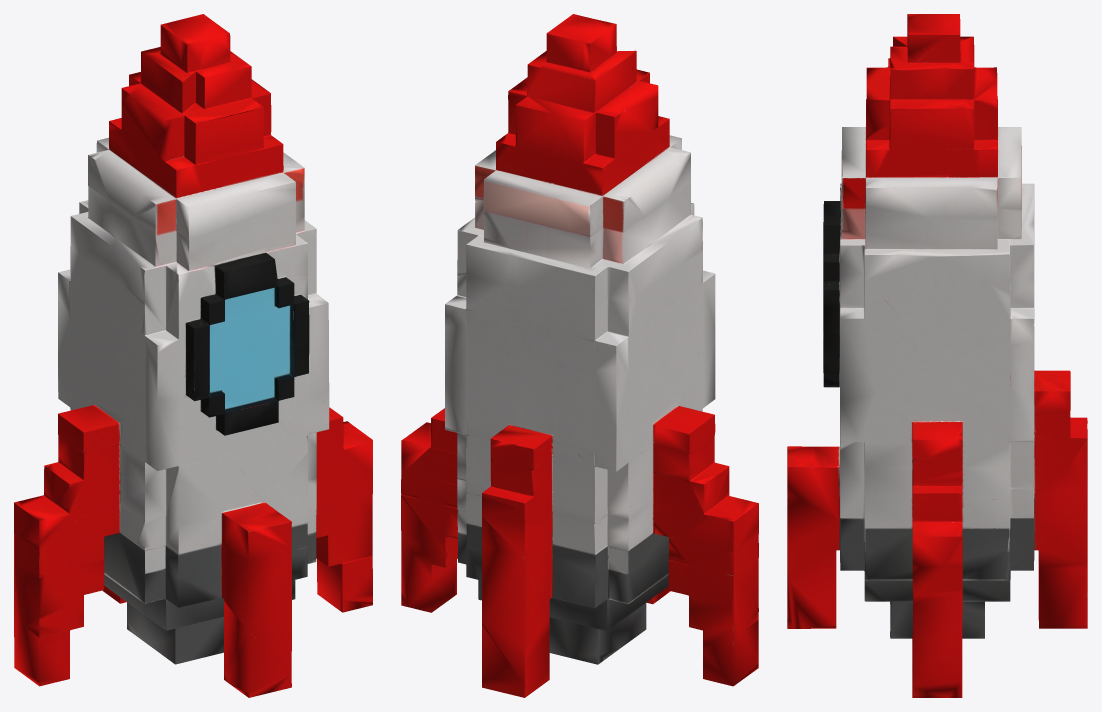
File: Rocket.fbx
The picture shows the model from 3 angles, left to right: view 1: azimuth 30°, elevation 25°; view 2: azimuth 150°, elevation 25°; view 3: azimuth 270°, elevation 25°; orthographic projection. The views are drawn at different scales.
Visible parts, largest first — view 1: Mesh_0; view 2: Mesh_0; view 3: Mesh_0.
Part boxes in pixels (x1,y1,x2,y2): Mesh_0: (14,14,372,697); Mesh_0: (401,14,758,697); Mesh_0: (787,14,1087,697).
Bounding box in the file's own units: 109 × 190 × 86.95.
Materials: 1 (1 with a texture image).
